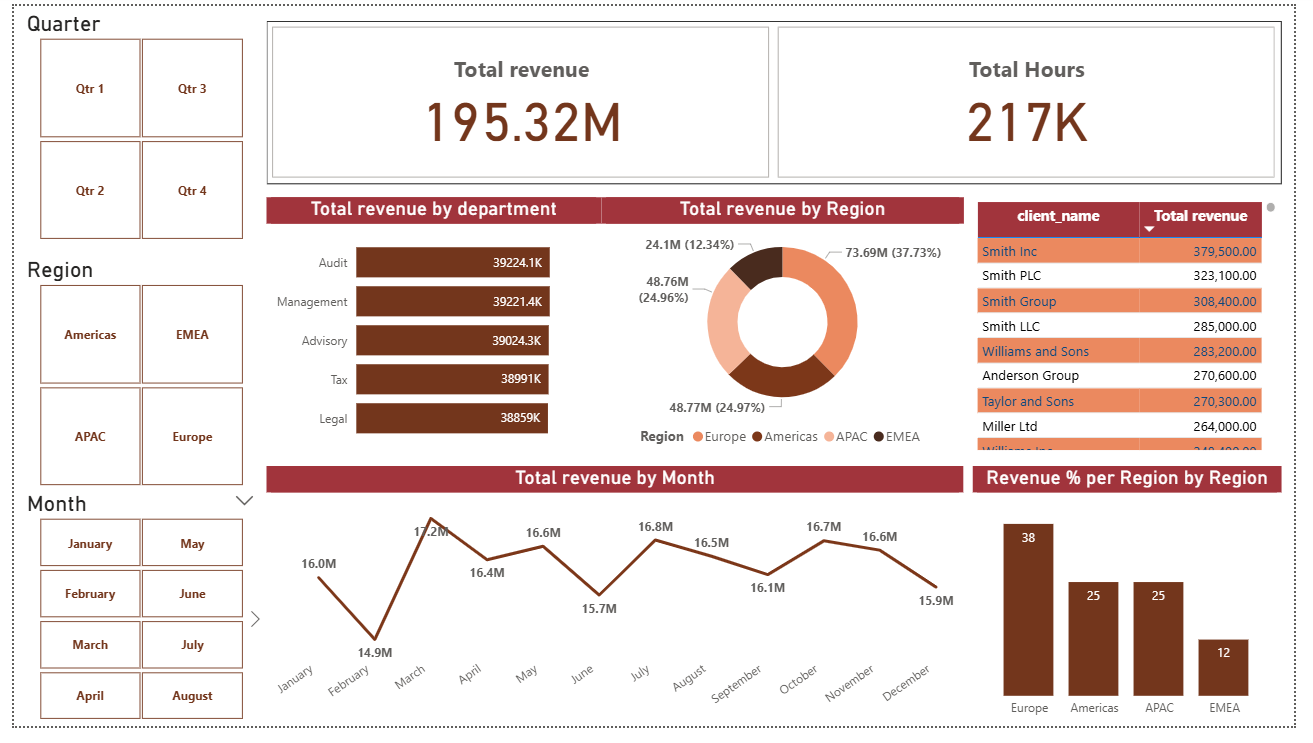

The dashboard page shown, as its layout file describes it:
{"tool":"powerbi","page":{"name":"Page 1","canvas":[1280,720],"ordinal":0},"visuals":[{"type":"cardVisual","fields":{"Data":["All Measuers.Total revenue","All Measuers.Total Hours"]},"box":[252.5,15.1,1015.4,163.3],"z":0},{"type":"slicer","fields":{"Values":["Services_data.service_date.Variation.Date Hierarchy.Quarter"]},"box":[0,0,252.5,240.1],"z":1000},{"type":"slicer","fields":{"Values":["Branch_data.Region"]},"box":[0,245.6,252.5,240.1],"z":2000},{"type":"slicer","fields":{"Values":["Services_data.service_date.Variation.Date Hierarchy.Month"]},"box":[0,480.3,252.5,240.1],"z":3000},{"type":"barChart","fields":{"Category":["Services_data.department"],"Y":["All Measuers.Total revenue"]},"box":[252.5,190.7,334.8,258],"z":4000},{"type":"donutChart","fields":{"Y":["All Measuers.Total revenue"],"Category":["Branch_data.Region"]},"box":[587.3,190.7,362.3,258],"z":5000},{"type":"lineChart","fields":{"Y":["All Measuers.Total revenue"],"Category":["Services_data.service_date.Variation.Date Hierarchy.Month"]},"box":[252.5,459.7,697.1,260.7],"z":6000},{"type":"tableEx","fields":{"Values":["Services_data.client_name","All Measuers.Total revenue"]},"box":[957.8,190.7,308.7,258],"z":7000},{"type":"columnChart","fields":{"Category":["Branch_data.Region"],"Y":["All Measuers.Total Hours"]},"box":[959,460,309,260],"z":8000}]}

Visuals, with their boxes in screenshot pixels (x1, y1, x2, y2), scaled from the page's 1280x720 canvas onto the 1313x743 screenshot:
cardVisual - All Measuers.Total revenue x All Measuers.Total Hours: [x1=259, y1=16, x2=1301, y2=184]
slicer - Services_data.service_date.Variation.Date Hierarchy.Quarter: [x1=0, y1=0, x2=259, y2=248]
slicer - Branch_data.Region: [x1=0, y1=253, x2=259, y2=501]
slicer - Services_data.service_date.Variation.Date Hierarchy.Month: [x1=0, y1=496, x2=259, y2=742]
barChart - Services_data.department x All Measuers.Total revenue: [x1=259, y1=197, x2=602, y2=463]
donutChart - All Measuers.Total revenue x Branch_data.Region: [x1=602, y1=197, x2=974, y2=463]
lineChart - All Measuers.Total revenue x Services_data.service_date.Variation.Date Hierarchy.Month: [x1=259, y1=474, x2=974, y2=742]
tableEx - Services_data.client_name x All Measuers.Total revenue: [x1=982, y1=197, x2=1299, y2=463]
columnChart - Branch_data.Region x All Measuers.Total Hours: [x1=984, y1=475, x2=1301, y2=742]
